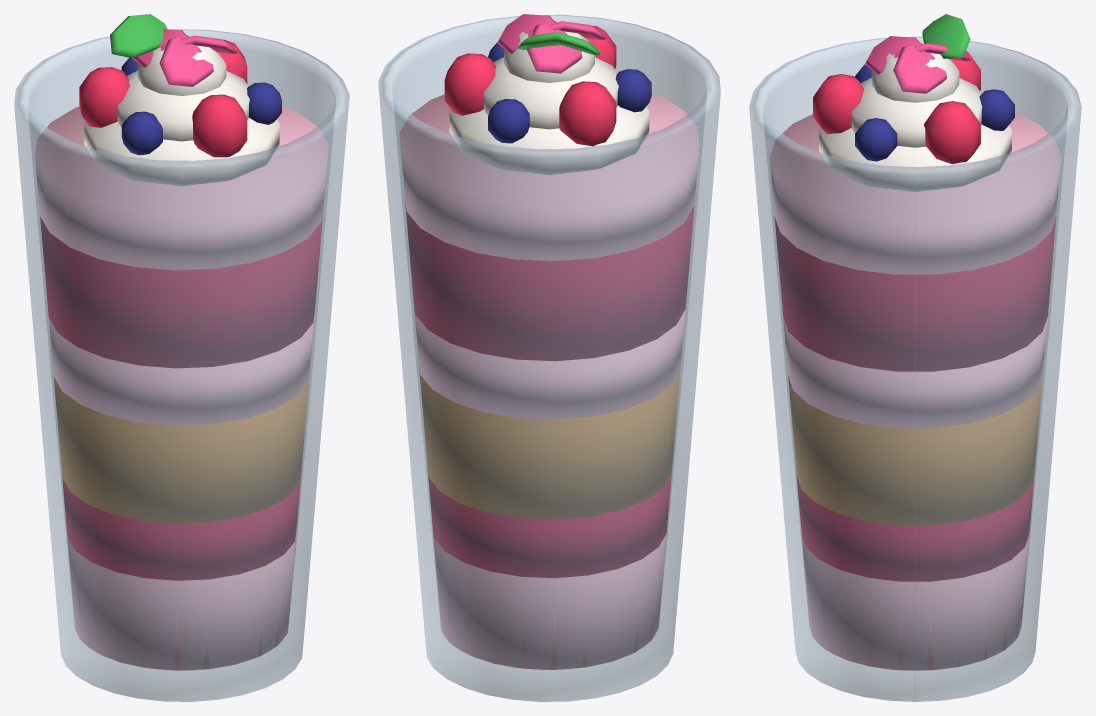
3 renders of one model, left to right at view 1: azimuth 30°, elevation 25°; view 2: azimuth 150°, elevation 25°; view 3: azimuth 270°, elevation 25°, orthographic. The views are drawn at different scales.
Visible parts, largest first — view 1: glass, layer, cream, raspberry, blueberry, rose_petals, mint; view 2: glass, layer, cream, raspberry, blueberry, rose_petals, mint; view 3: glass, layer, cream, raspberry, rose_petals, blueberry, mint.
Boxes of the visible parts, x1=… form: glass: x1=14, y1=29, x2=349, y2=701; layer: x1=35, y1=106, x2=328, y2=670; cream: x1=84, y1=45, x2=279, y2=185; raspberry: x1=79, y1=39, x2=247, y2=157; blueberry: x1=121, y1=57, x2=281, y2=155; rose_petals: x1=132, y1=29, x2=237, y2=86; mint: x1=110, y1=14, x2=167, y2=58; glass: x1=378, y1=14, x2=720, y2=701; layer: x1=399, y1=93, x2=699, y2=669; cream: x1=449, y1=31, x2=649, y2=174; raspberry: x1=444, y1=26, x2=616, y2=146; blueberry: x1=488, y1=42, x2=651, y2=143; rose_petals: x1=497, y1=14, x2=606, y2=73; mint: x1=516, y1=32, x2=600, y2=55; glass: x1=749, y1=36, x2=1081, y2=701; layer: x1=769, y1=112, x2=1061, y2=670; cream: x1=819, y1=44, x2=1011, y2=191; raspberry: x1=813, y1=50, x2=980, y2=164; rose_petals: x1=865, y1=36, x2=970, y2=93; blueberry: x1=855, y1=64, x2=1014, y2=161; mint: x1=922, y1=14, x2=970, y2=58.
Bounding box in the file's own units: 0.072 × 0.148 × 0.072.
